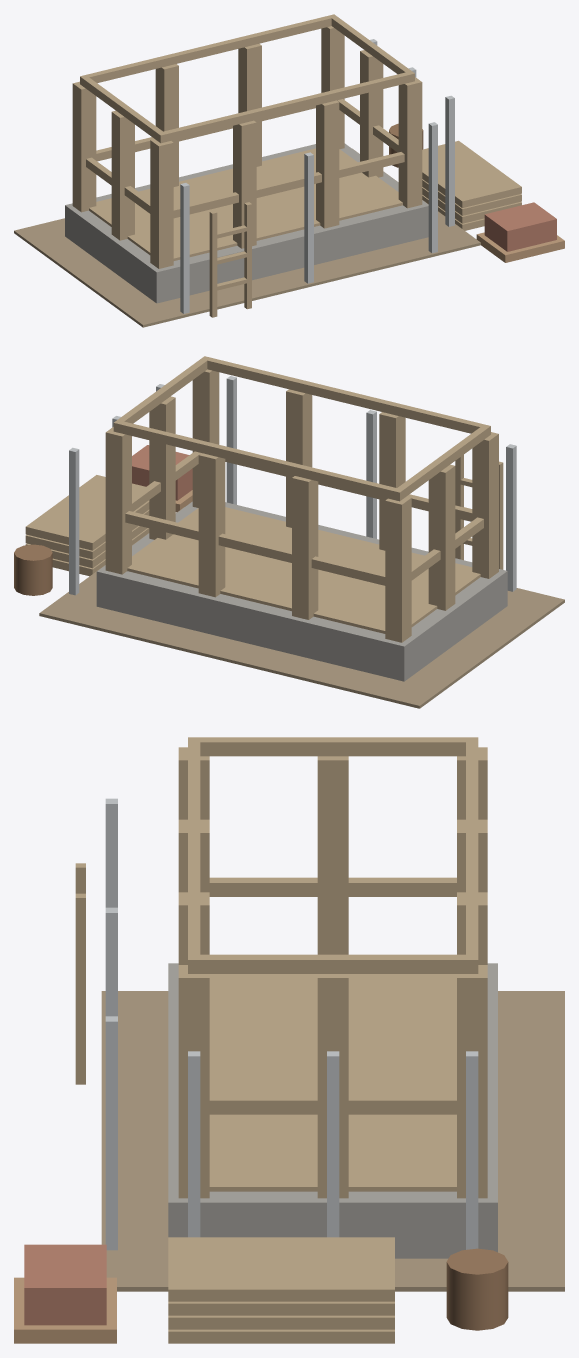
The model's file is garden_shed_site_4.glb.
The picture shows the model from 3 angles, top to bottom: view 1: azimuth 30°, elevation 25°; view 2: azimuth 150°, elevation 25°; view 3: azimuth 270°, elevation 25°; orthographic projection. The views are drawn at different scales.
Parts seen in each view (by area): view 1: body; view 2: body; view 3: body.
Boxes of the visible parts, x1,y1,x2,y2 form: body: (14,14,564,327); body: (14,356,564,708); body: (14,737,564,1343).
Bounding box in the file's own units: 1.2 × 0.4725 × 0.8.
